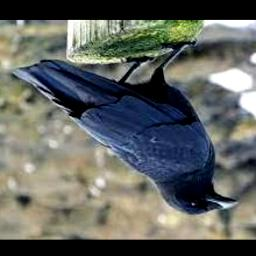Crow: (12, 40, 236, 216)
